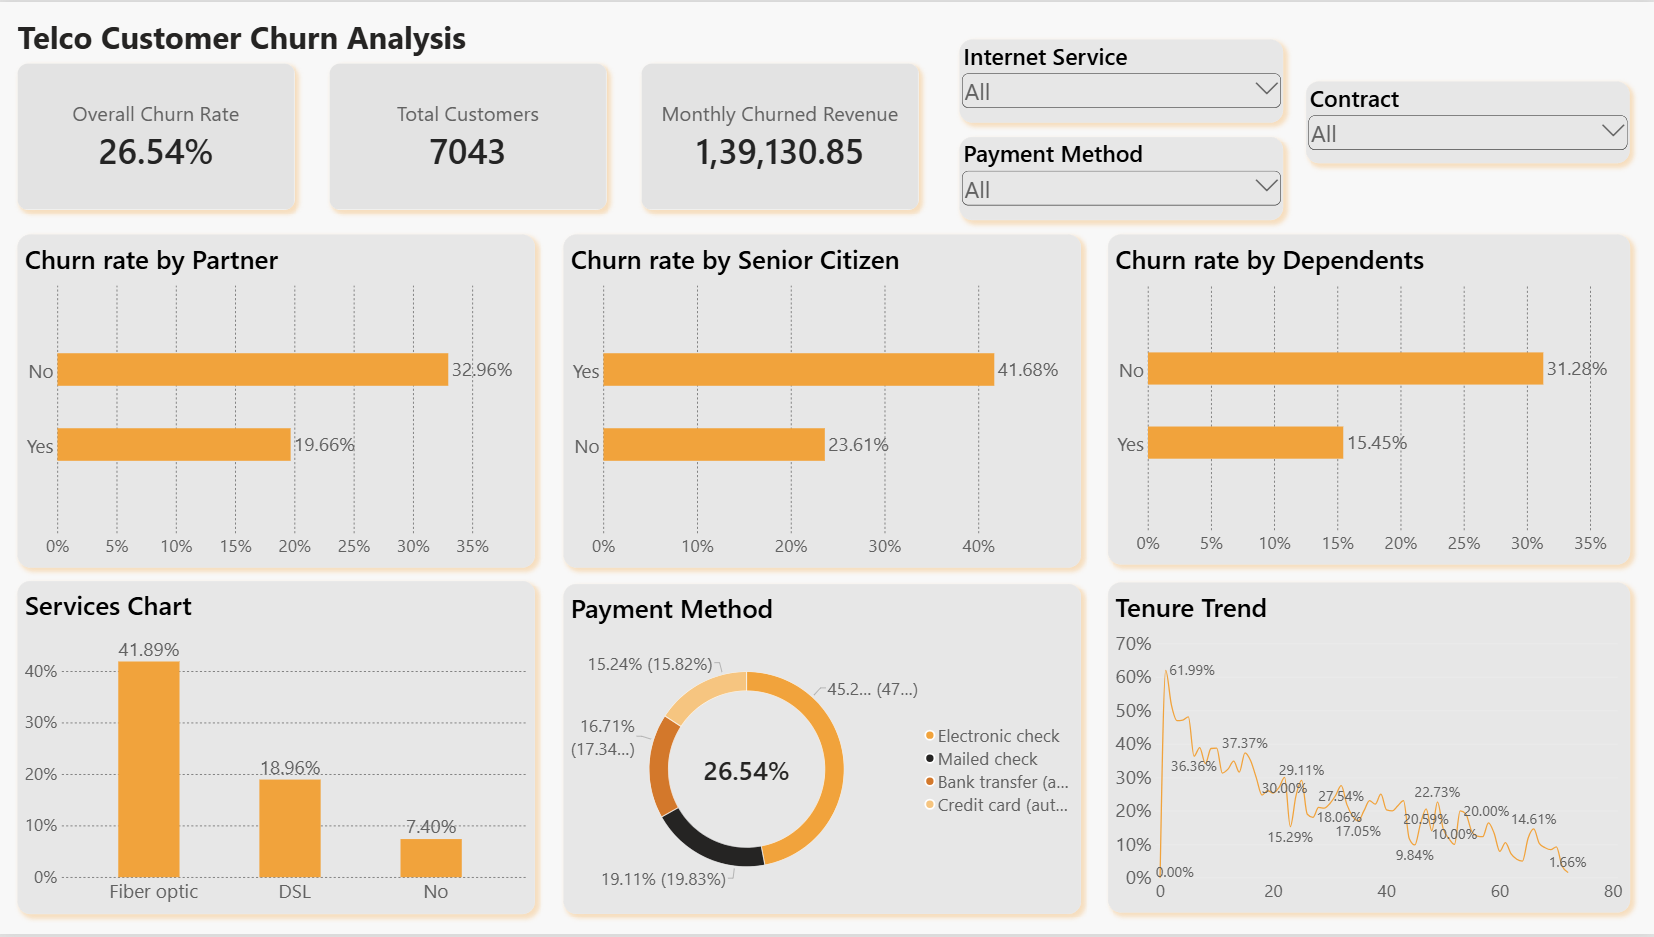

This screenshot's page, from the dashboard's own definition file:
{"tool":"powerbi","page":{"name":"Churn Drivers Overview","canvas":[3840,2160],"ordinal":0},"visuals":[{"type":"cardVisual","fields":{"Data":["Avg(public telco_customers.churn_numeric)"]},"box":[45.2,142.5,642.9,339.3],"z":0},{"type":"barChart","title":"Churn rate by Partner","fields":{"Category":["public telco_customers.Partner"],"Y":["Avg(public telco_customers.churn_numeric)"]},"box":[45.2,538.8,1199.3,771.7],"z":1000},{"type":"barChart","title":"Churn rate by Dependents","fields":{"Y":["Avg(public telco_customers.churn_numeric)"],"Category":["public telco_customers.Dependents"]},"box":[2572.4,538.8,1209.7,764.8],"z":2000},{"type":"barChart","title":"Churn rate by Senior Citizen","fields":{"Category":["public telco_customers.SeniorCitizen Label"],"Y":["Avg(public telco_customers.churn_numeric)"]},"box":[1308.8,538.8,1199.3,771.7],"z":3000},{"type":"lineChart","title":"Tenure Trend","fields":{"Category":["public telco_customers.tenure"],"Y":["Avg(public telco_customers.churn_numeric)"]},"box":[2572.4,1345.3,1209.7,764.8],"z":4000},{"type":"clusteredColumnChart","title":"Services Chart","fields":{"Category":["public telco_customers.InternetService"],"Y":["Avg(public telco_customers.churn_numeric)"]},"box":[45.2,1341.8,1199.3,771.7],"z":5000},{"type":"slicer","fields":{"Values":["public telco_customers.Contract"]},"box":[3031.2,184.2,750,189.3],"z":6000},{"type":"slicer","fields":{"Values":["public telco_customers.InternetService"]},"box":[2228.2,86.9,750,192.9],"z":7000},{"type":"slicer","fields":{"Values":["public telco_customers.PaymentMethod"]},"box":[2228.2,312.9,750,192.9],"z":8000},{"type":"textbox","box":[45.2,31.3,1042.9,111.2],"z":9000},{"type":"cardVisual","fields":{"Data":["Count(public telco_customers.customerID)"]},"box":[768.2,142.5,642.9,339.3],"z":10000},{"type":"cardVisual","fields":{"Data":["public telco_customers.Churned Revenue"]},"box":[1491.3,142.5,642.9,339.3],"z":11000},{"type":"donutChart","title":"Payment Method","fields":{"Category":["public telco_customers.PaymentMethod"],"Y":["Avg(public telco_customers.churn_numeric)"]},"box":[1310.5,1348.8,1199.3,764.8],"z":12000}]}

Visuals, with their boxes in screenshot pixels (x1, y1, x2, y2), scaled from the page's 3840x2160 canvas onto the 1654x937 screenshot:
cardVisual - Avg(public telco_customers.churn_numeric): l=19, t=62, r=296, b=209
"Churn rate by Partner" barChart: l=19, t=234, r=536, b=568
"Churn rate by Dependents" barChart: l=1108, t=234, r=1629, b=565
"Churn rate by Senior Citizen" barChart: l=564, t=234, r=1080, b=568
"Tenure Trend" lineChart: l=1108, t=584, r=1629, b=915
"Services Chart" clusteredColumnChart: l=19, t=582, r=536, b=917
slicer - public telco_customers.Contract: l=1306, t=80, r=1629, b=162
slicer - public telco_customers.InternetService: l=960, t=38, r=1283, b=121
slicer - public telco_customers.PaymentMethod: l=960, t=136, r=1283, b=219
textbox: l=19, t=14, r=469, b=62
cardVisual - Count(public telco_customers.customerID): l=331, t=62, r=608, b=209
cardVisual - public telco_customers.Churned Revenue: l=642, t=62, r=919, b=209
"Payment Method" donutChart: l=564, t=585, r=1081, b=917
